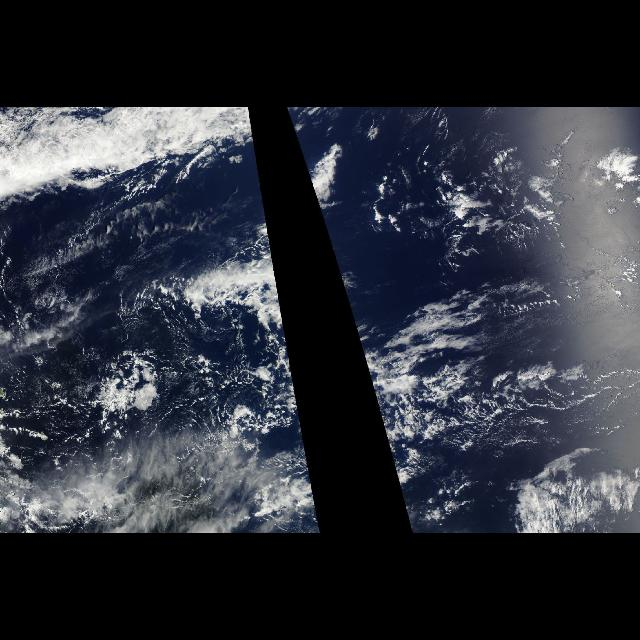Fish: (366, 364, 592, 454)
Gravel: (141, 316, 291, 516)
